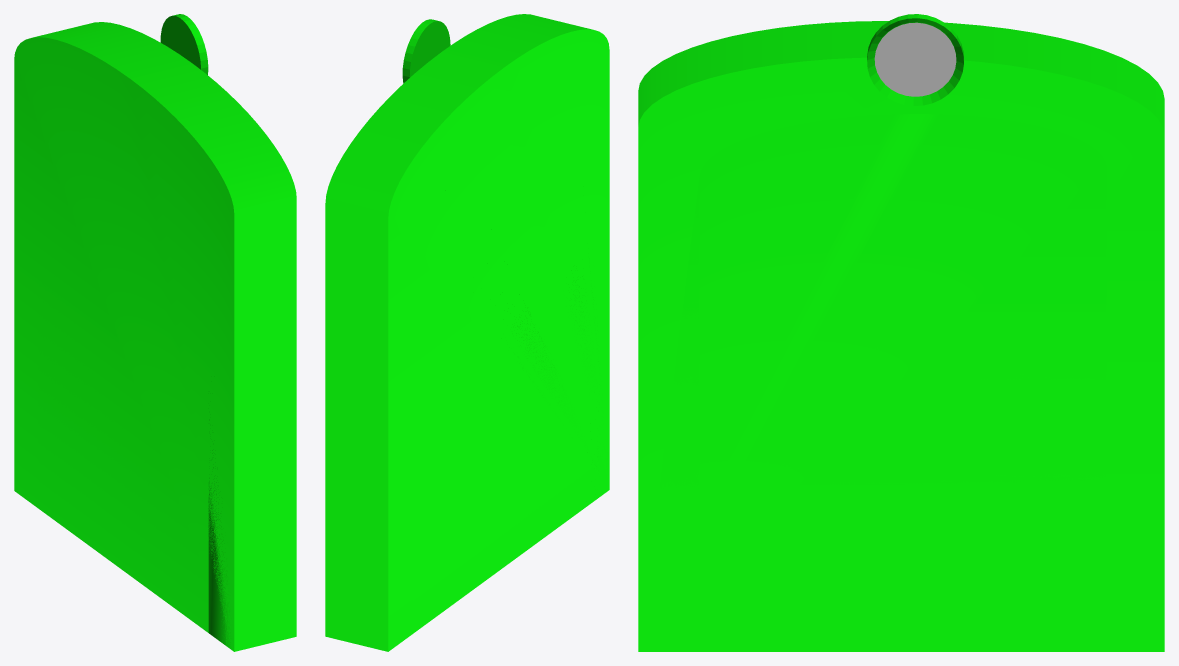
File: door.fbx
The picture shows the model from 3 angles, left to right: view 1: azimuth 30°, elevation 25°; view 2: azimuth 150°, elevation 25°; view 3: azimuth 270°, elevation 25°; orthographic projection. The views are drawn at different scales.
Parts seen in each view (by area): view 1: Kapı; view 2: Kapı; view 3: Kapı, Coin-Img.
Part boxes in pixels (bbox=[...]): Kapı: bbox=[14, 14, 296, 651]; Kapı: bbox=[325, 14, 609, 651]; Kapı: bbox=[638, 14, 1164, 651]; Coin-Img: bbox=[874, 22, 956, 96].
Bounding box in the file's own units: 99.92 × 730 × 546.
